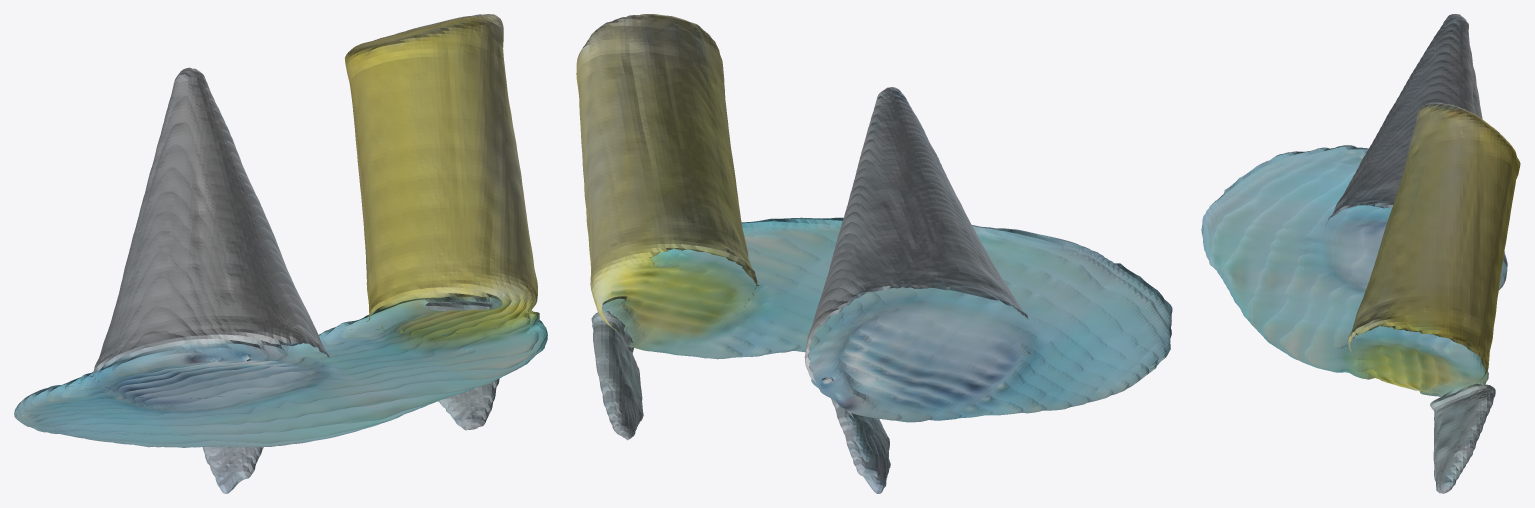
3 views of the same model, side by side, from view 1: azimuth 30°, elevation 25°; view 2: azimuth 150°, elevation 25°; view 3: azimuth 270°, elevation 25° (orthographic). The views are drawn at different scales.
Visible parts, largest first — view 1: geometry_0; view 2: geometry_0; view 3: geometry_0.
Boxes of the visible parts, box(x1,y1,x2,y2) form: geometry_0: box(14, 14, 547, 493); geometry_0: box(576, 14, 1172, 493); geometry_0: box(1201, 14, 1520, 493).
Size of the model in its own units: 1.6 by 1.22 by 0.9678.
